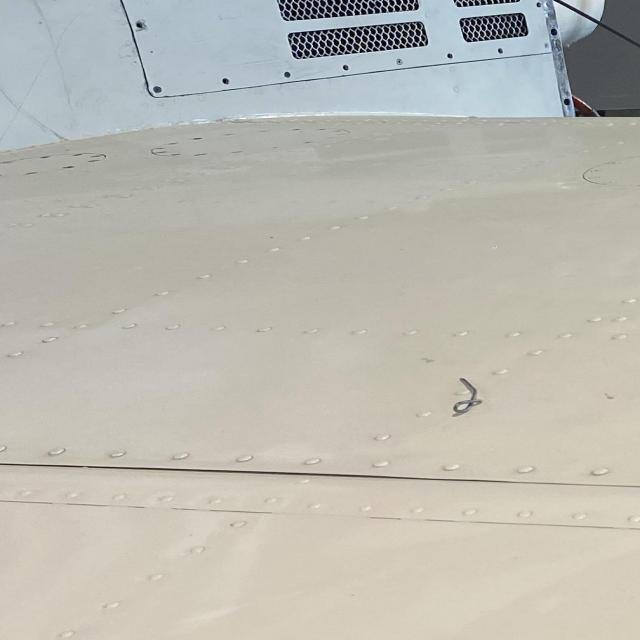Missing-head: (133, 19, 148, 30), (217, 75, 232, 86), (341, 63, 354, 72), (444, 52, 456, 61), (496, 48, 503, 54), (535, 2, 541, 8)
